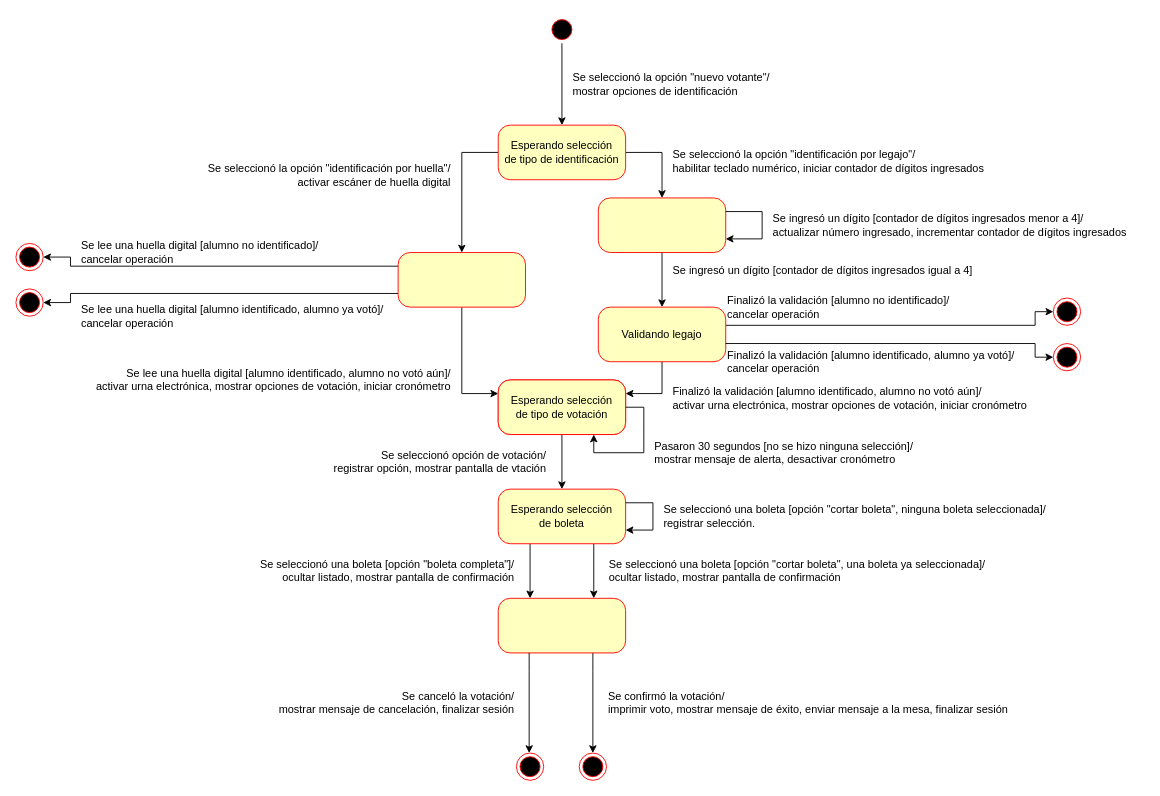
The diagram is 1160 pixels wide and 796 high, and some of its shapes have lost their labels. Each missing label, with the centre of its shape:
"Esperando confirmación" goes at [561,625].
"Esperando huella en el escáner" goes at [461,279].
"Ingresando legajo" goes at [661,225].
